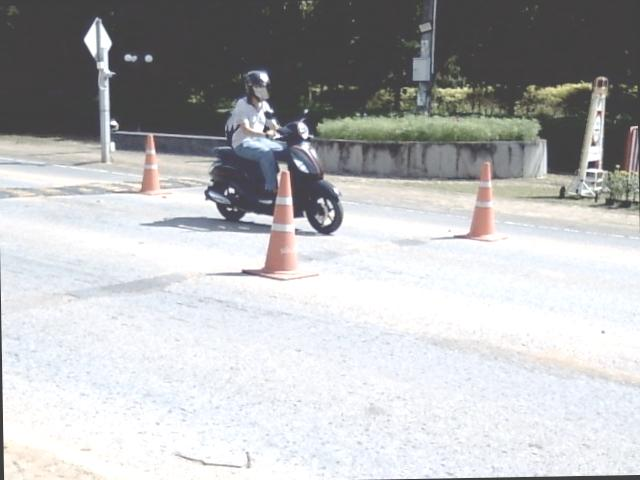helmet: (243, 68, 269, 100)
motor: (276, 118, 343, 233), (204, 146, 273, 219)
person: (226, 70, 282, 200)
